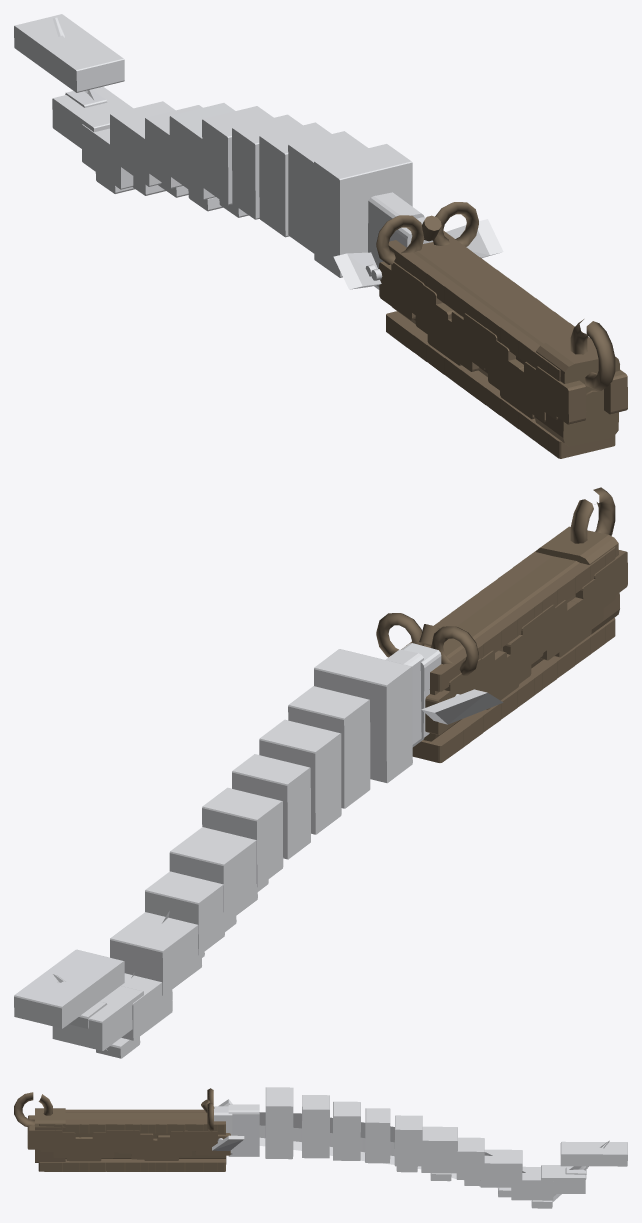
Rendered from equipment_throwing_knife.glb.
3 renders of one model, top to bottom at view 1: azimuth 30°, elevation 25°; view 2: azimuth 150°, elevation 25°; view 3: azimuth 270°, elevation 25°, orthographic. The views are drawn at different scales.
Parts seen in each view (by area): view 1: equipment_throwing_knife__equipment_throwing_knife, equipment_throwing_knife__grip; view 2: equipment_throwing_knife__equipment_throwing_knife, equipment_throwing_knife__grip; view 3: equipment_throwing_knife__equipment_throwing_knife, equipment_throwing_knife__grip.
Boxes of the visible parts, box(x1,y1,x2,y2) form: equipment_throwing_knife__equipment_throwing_knife: box(14, 14, 503, 289); equipment_throwing_knife__grip: box(376, 202, 627, 458); equipment_throwing_knife__equipment_throwing_knife: box(14, 643, 503, 1058); equipment_throwing_knife__grip: box(376, 487, 627, 762); equipment_throwing_knife__equipment_throwing_knife: box(212, 1087, 627, 1208); equipment_throwing_knife__grip: box(14, 1088, 230, 1171).
Size of the model in its own units: 0.068 by 0.0902 by 0.4368.
